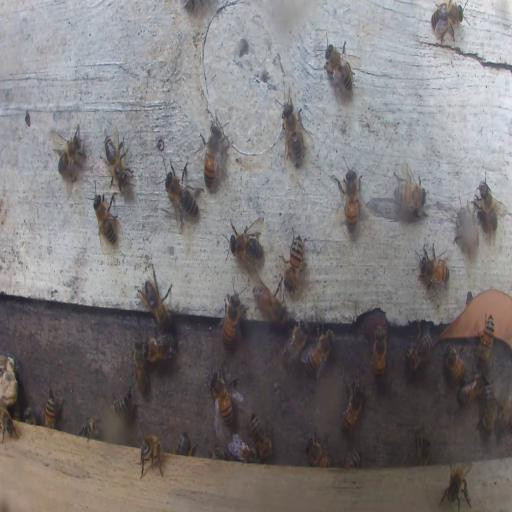bee: (163, 159, 198, 228), (279, 88, 306, 165), (322, 40, 355, 98), (472, 174, 504, 233), (53, 126, 86, 181), (139, 276, 174, 326), (440, 461, 474, 511), (228, 220, 265, 265), (92, 189, 120, 247), (104, 133, 132, 191), (208, 371, 235, 429), (430, 2, 466, 42), (305, 328, 335, 376), (340, 381, 366, 434), (341, 160, 360, 232), (254, 282, 285, 326), (393, 172, 426, 213), (404, 325, 434, 370), (283, 231, 305, 291), (221, 290, 243, 348), (419, 245, 450, 286), (138, 432, 164, 477), (249, 413, 274, 459), (455, 207, 479, 253), (283, 320, 307, 364), (457, 373, 488, 406), (144, 332, 175, 364), (132, 340, 149, 397), (443, 344, 467, 382), (477, 314, 494, 364), (305, 436, 332, 466), (480, 386, 496, 436), (229, 435, 258, 462), (204, 133, 218, 188), (372, 326, 386, 380), (44, 388, 60, 429), (0, 405, 17, 443), (110, 384, 132, 413), (78, 415, 102, 440), (416, 429, 432, 464), (174, 430, 192, 456), (341, 450, 360, 468), (211, 444, 227, 459), (23, 406, 36, 422)
